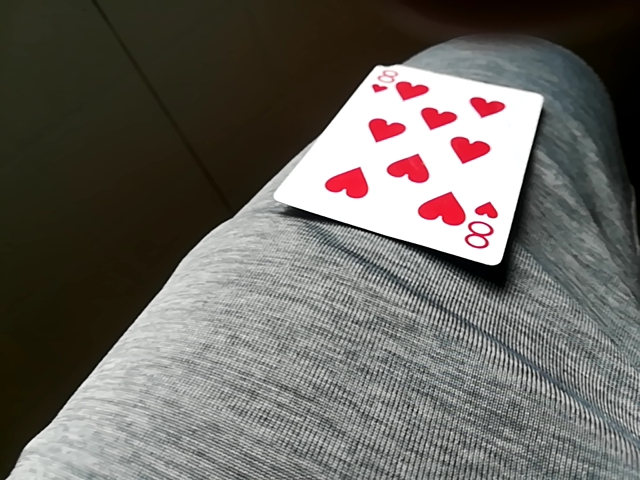hx 8: (270, 62, 544, 268)
